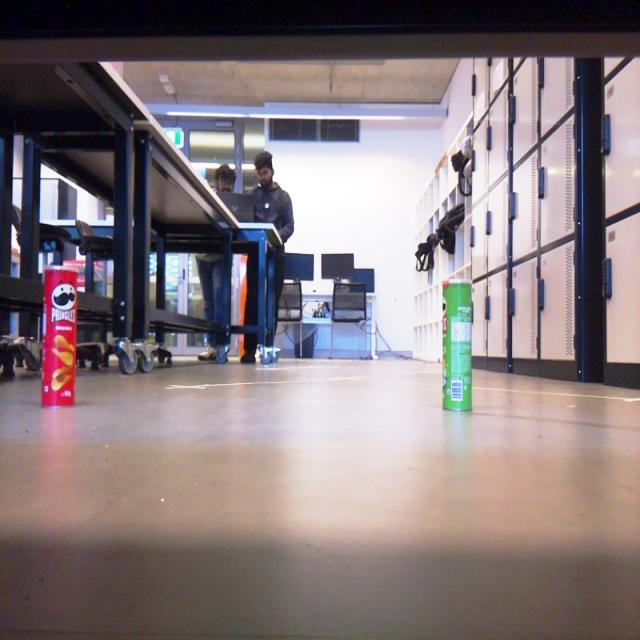greenpringles: (433, 262, 483, 420)
redpringles: (34, 256, 85, 416)
